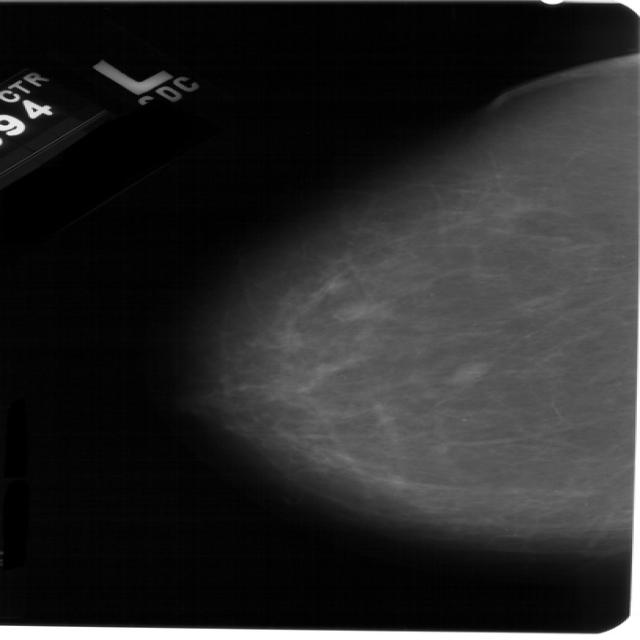tumour: (445, 359, 487, 385)
